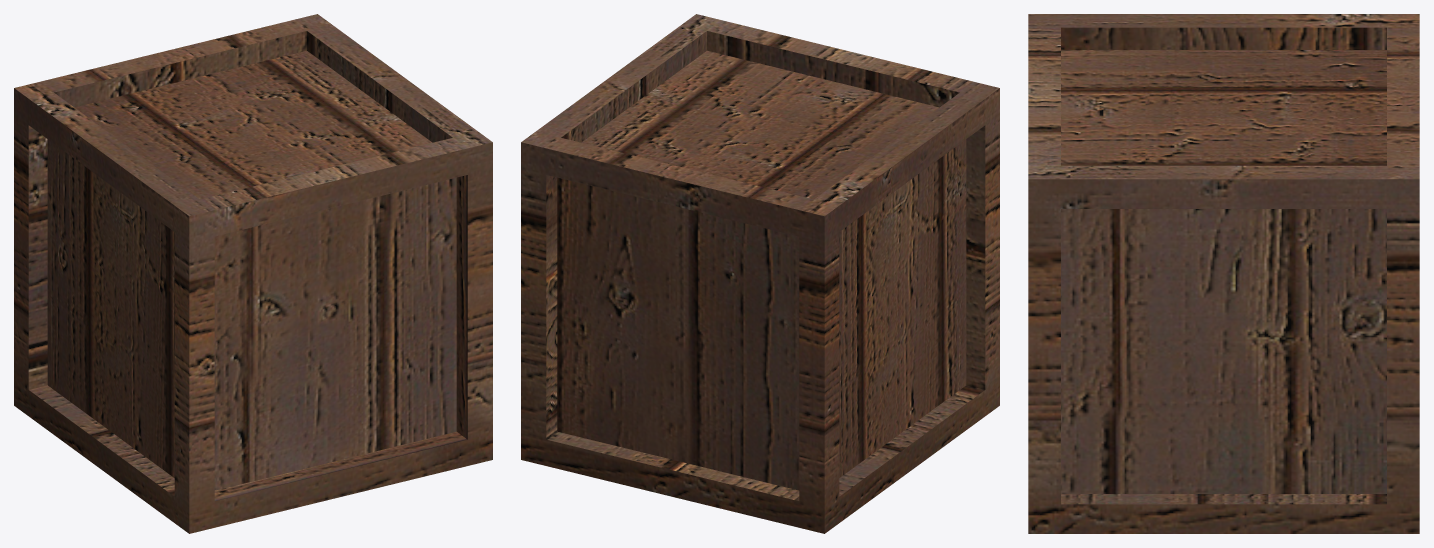
3 views of the same model, side by side, from view 1: azimuth 30°, elevation 25°; view 2: azimuth 150°, elevation 25°; view 3: azimuth 270°, elevation 25° (orthographic). The views are drawn at different scales.
Visible parts, largest first — view 1: Cube; view 2: Cube; view 3: Cube.
Boxes of the visible parts, x1=… form: Cube: x1=14, y1=14, x2=492, y2=533; Cube: x1=521, y1=14, x2=999, y2=533; Cube: x1=1028, y1=14, x2=1419, y2=533.
Bounding box in the file's own units: 240 × 240 × 240.
